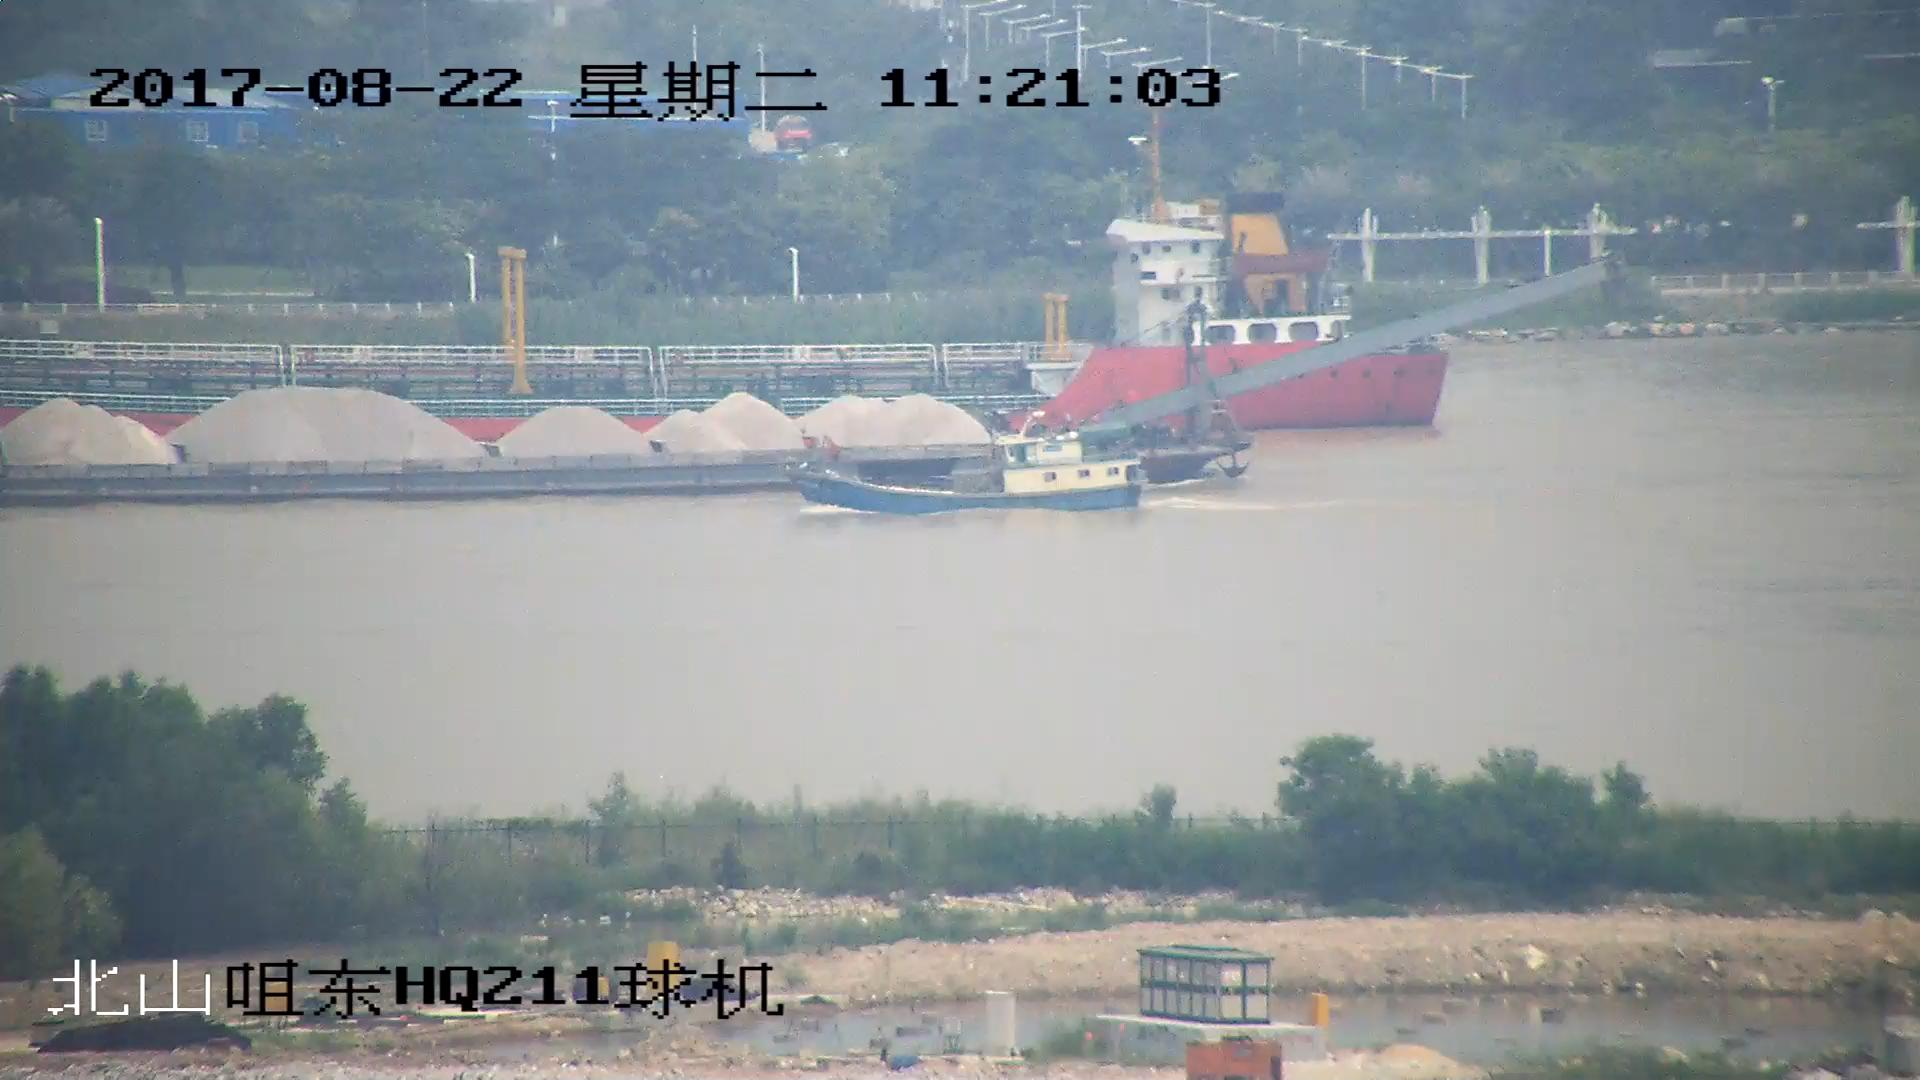fishing boat: (787, 416, 1142, 516)
general cargo ship: (1, 116, 1451, 433)
ore carrier: (1, 259, 1612, 509)
